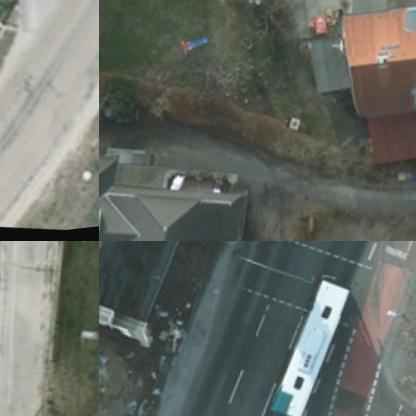car: (99, 86, 142, 137)
